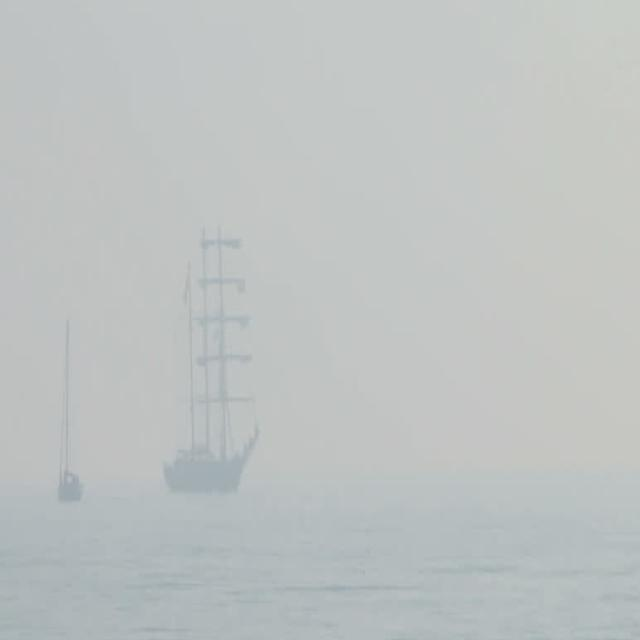fishing boat: (155, 228, 268, 480), (54, 298, 100, 513)
